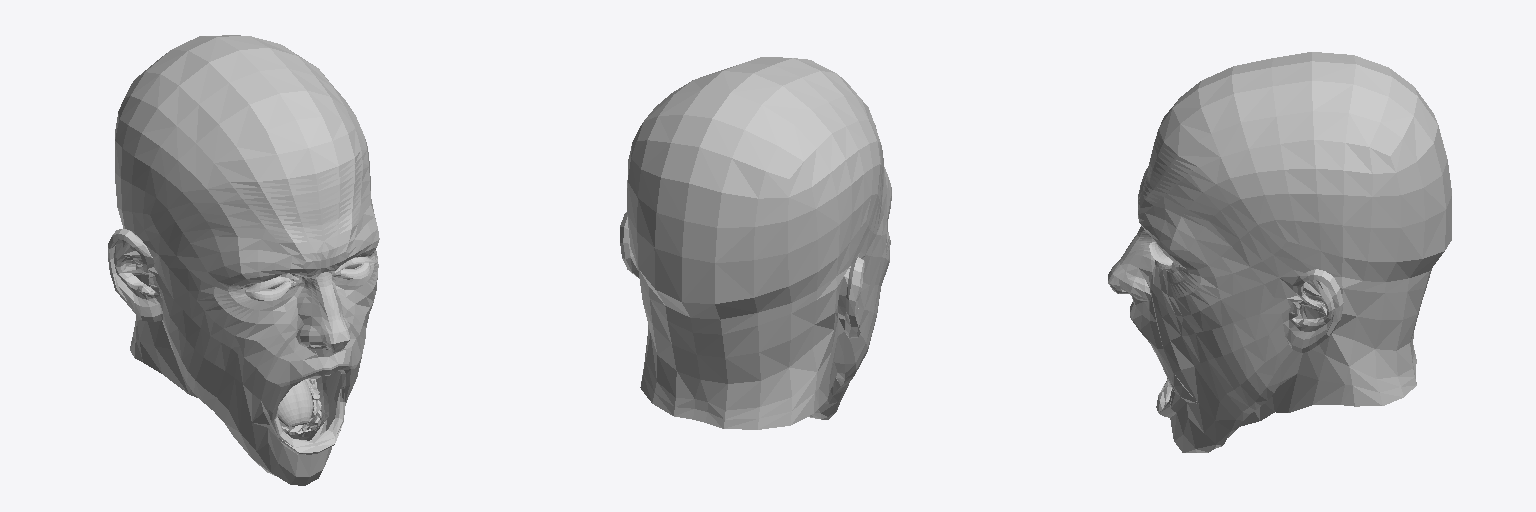
File: 03neg.obj
The picture shows the model from 3 angles: view 1: azimuth 30°, elevation 25°; view 2: azimuth 150°, elevation 25°; view 3: azimuth 270°, elevation 25°; orthographic projection.
Visible parts, largest first — view 1: head; view 2: head; view 3: head.
Boxes of the visible parts, x1=… form: head: x1=108, y1=35, x2=379, y2=485; head: x1=620, y1=57, x2=891, y2=429; head: x1=1108, y1=52, x2=1451, y2=452.
Size of the model in its own units: 0.0743 by 0.1145 by 0.092.